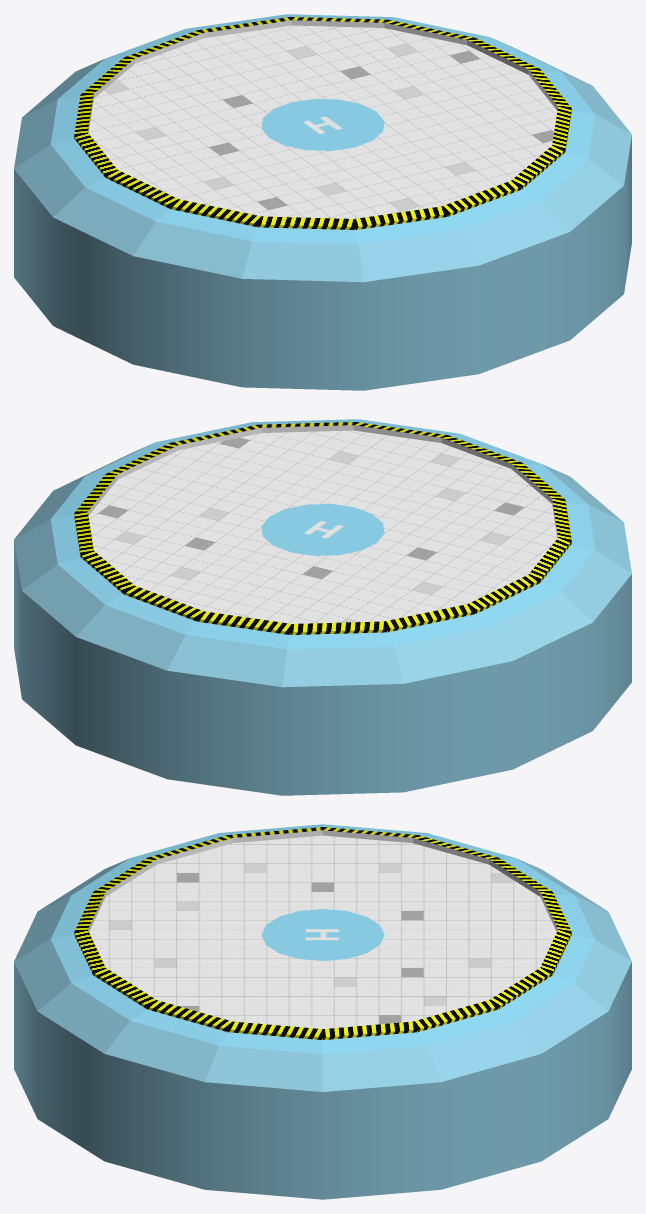
The model's file is building5.fbx.
3 views of the same model, one above another, from view 1: azimuth 30°, elevation 25°; view 2: azimuth 150°, elevation 25°; view 3: azimuth 270°, elevation 25° (orthographic).
Parts seen in each view (by area): view 1: building, floor; view 2: building, floor; view 3: building, floor.
Part boxes in pixels (x1=…): building: x1=14, y1=14, x2=631, y2=390; floor: x1=88, y1=25, x2=557, y2=218; building: x1=14, y1=419, x2=631, y2=795; floor: x1=88, y1=430, x2=557, y2=623; building: x1=14, y1=824, x2=631, y2=1199; floor: x1=89, y1=835, x2=556, y2=1028.
Bounding box in the file's own units: 55.78 × 13.88 × 55.78.
Materials: 1 (1 with a texture image).
